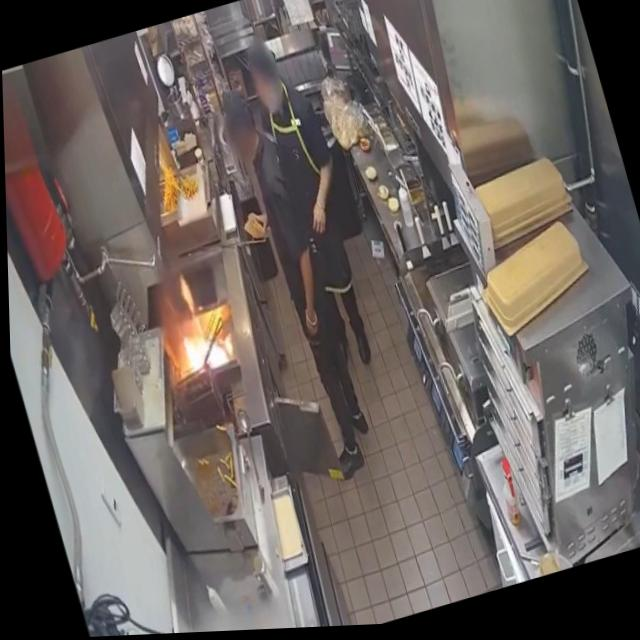fire: (163, 313, 230, 381), (171, 271, 198, 317)
